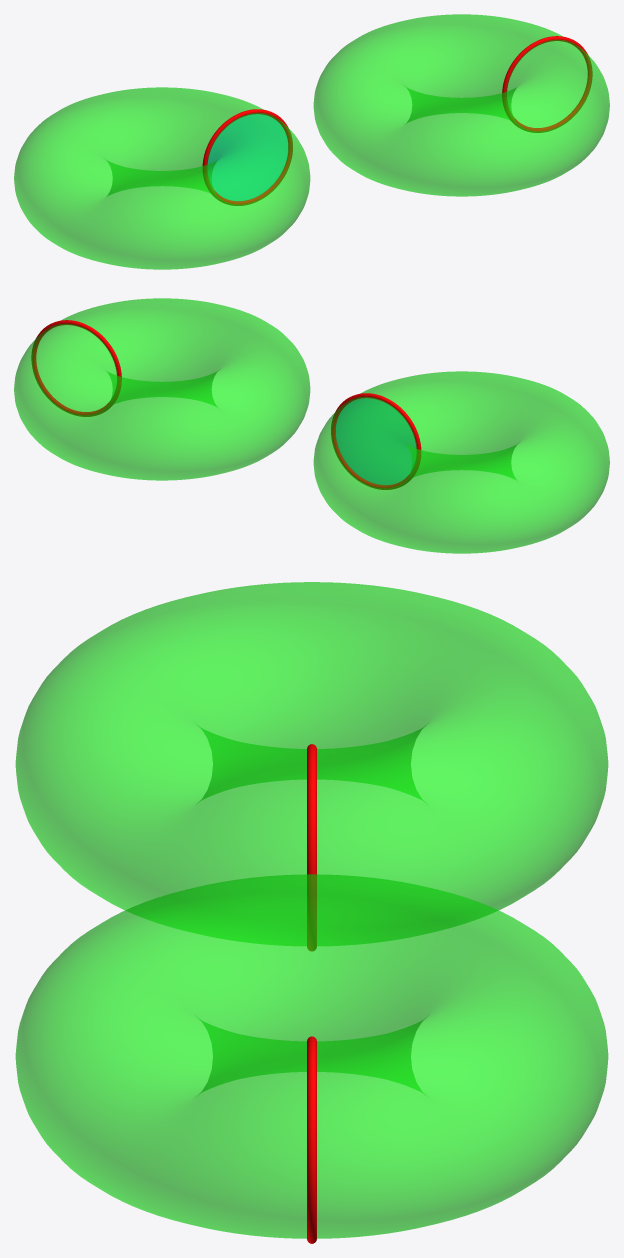
The picture shows the model from 3 angles, top to bottom: view 1: azimuth 30°, elevation 25°; view 2: azimuth 150°, elevation 25°; view 3: azimuth 270°, elevation 25°; orthographic projection. The views are drawn at different scales.
Parts seen in each view (by area): view 1: T1, Reference Torus, meridional disk, TorusKnot_0_1, meridional_arc; view 2: T1, Reference Torus, meridional disk, TorusKnot_0_1, meridional_arc; view 3: Reference Torus, T1, TorusKnot_0_1, meridional_arc.
Part boxes in pixels (<box>): T1: <box>14,87,310,269</box>; Reference Torus: <box>313,14,609,196</box>; meridional disk: <box>208,114,287,200</box>; TorusKnot_0_1: <box>502,36,592,132</box>; meridional_arc: <box>202,109,292,205</box>; T1: <box>313,371,609,553</box>; Reference Torus: <box>14,298,310,480</box>; meridional disk: <box>336,398,415,484</box>; TorusKnot_0_1: <box>31,320,121,416</box>; meridional_arc: <box>331,393,421,489</box>; Reference Torus: <box>15,874,608,1238</box>; T1: <box>15,582,608,945</box>; TorusKnot_0_1: <box>307,1036,316,1243</box>; meridional_arc: <box>307,744,316,951</box>.
Bounding box in the file's own units: 6.52 × 1.05 × 3.
